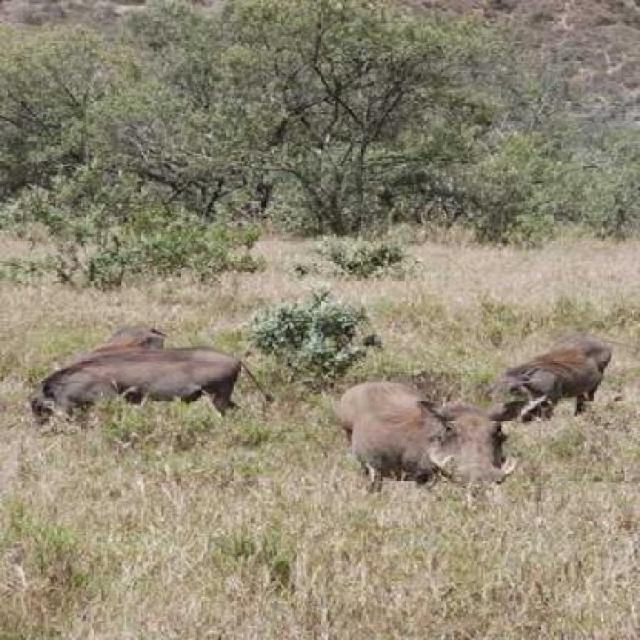pig: (34, 308, 249, 458), (346, 383, 518, 523), (503, 349, 626, 418)
